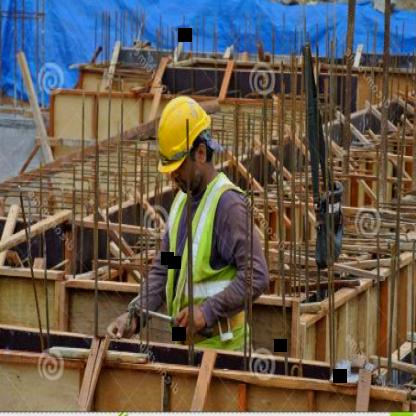helmet: (154, 89, 218, 192)
